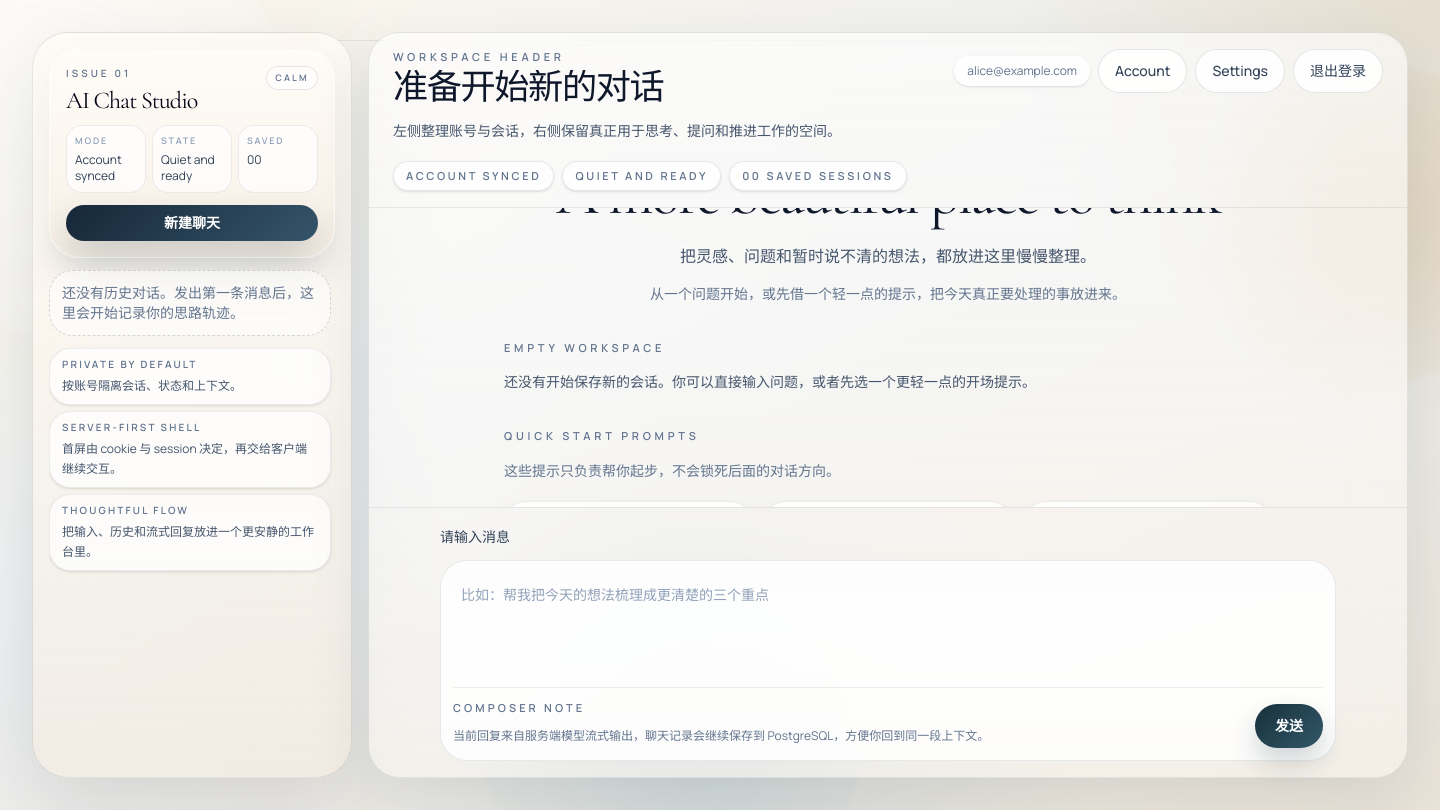
Test: ChatApp › submits a message and renders the streamed assistant reply
Type "测试消息" into the text box labelled "请输入消息" at (888, 620), box [453,572,1323,668]
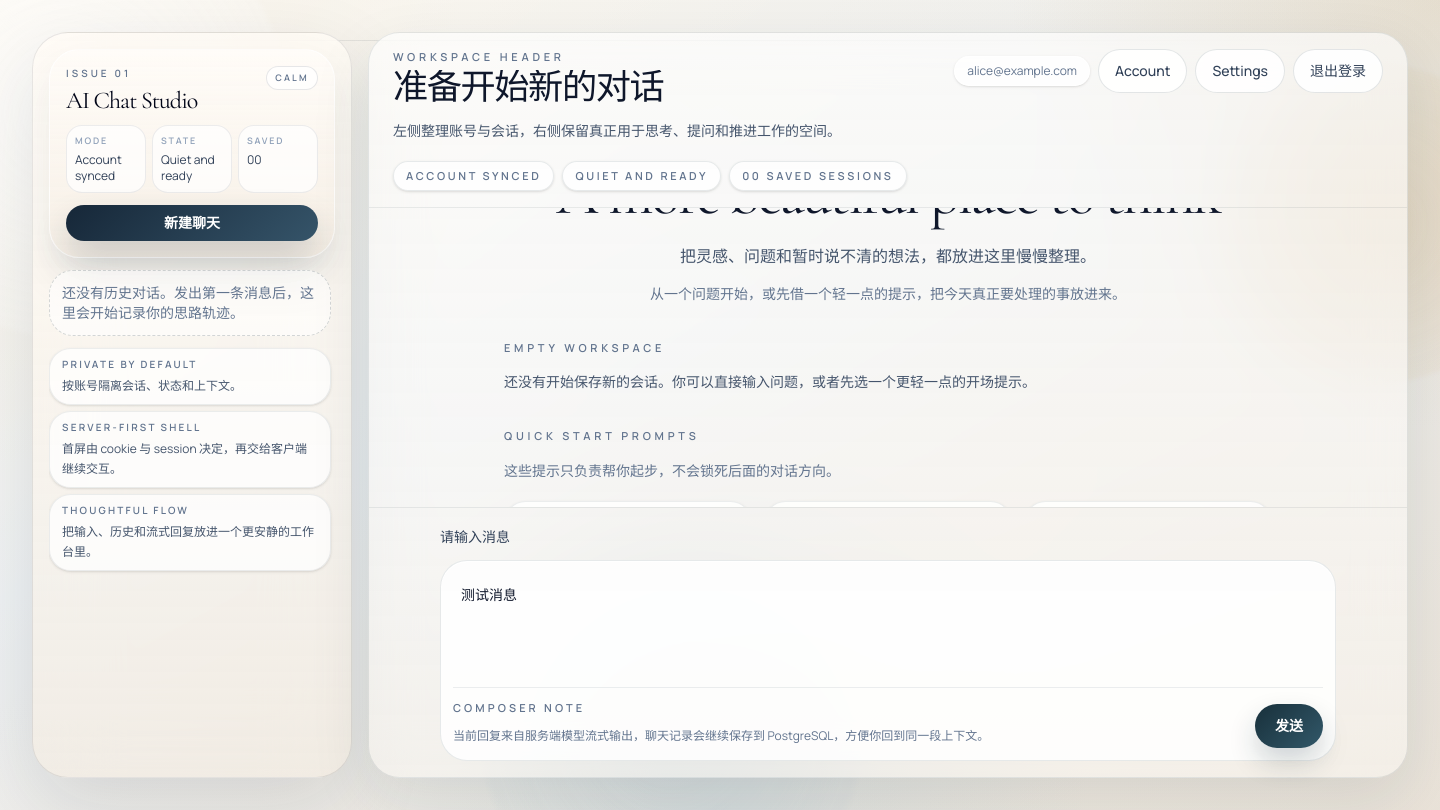
Click the button "发送" at (1289, 726), box [1255,704,1323,748]
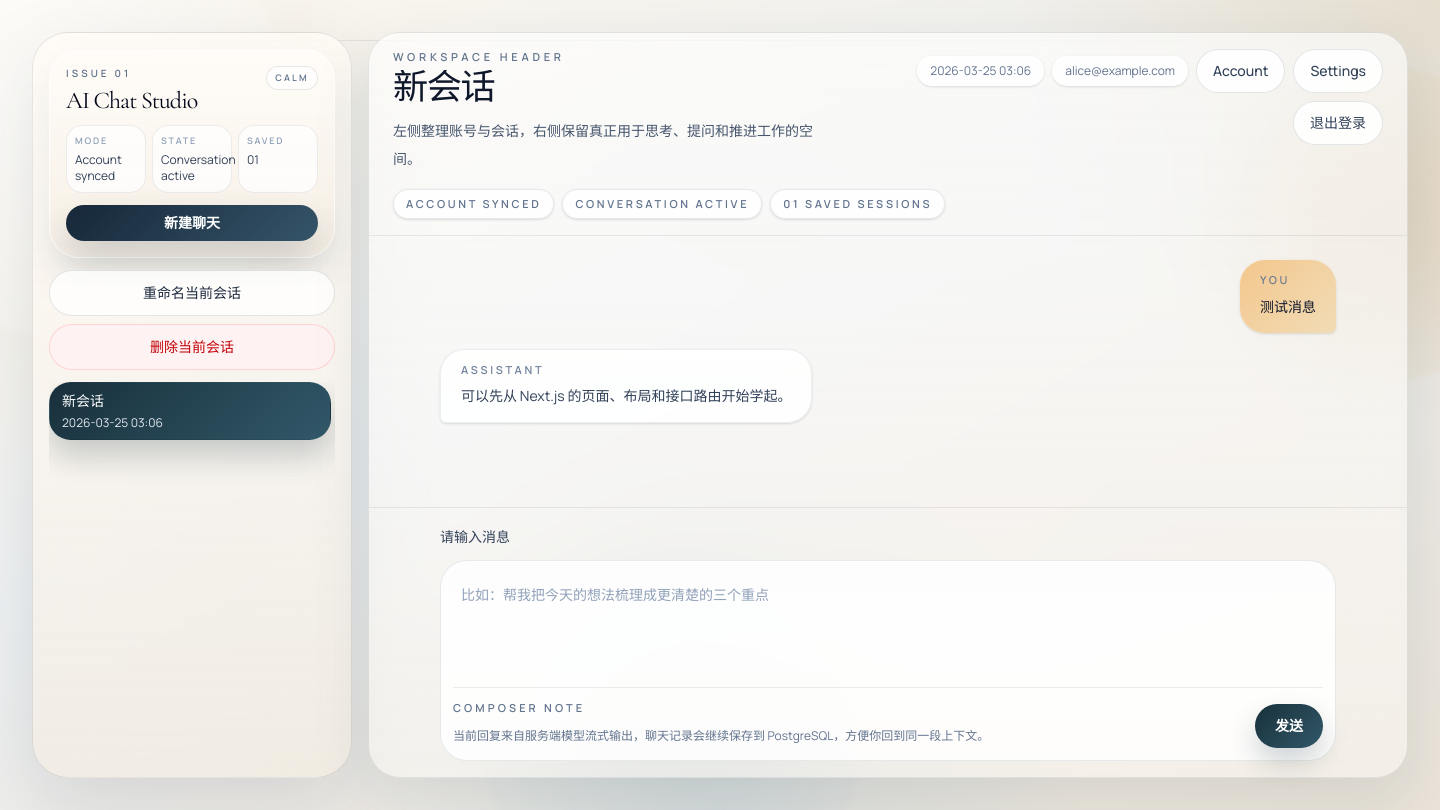
Expected: the text "测试消息" is shown, [1260,293,1316,321]
Expected: the text "可以先从 Next.js 的页面、布局和接口路由开始学起。" is shown, [461,382,792,410]
